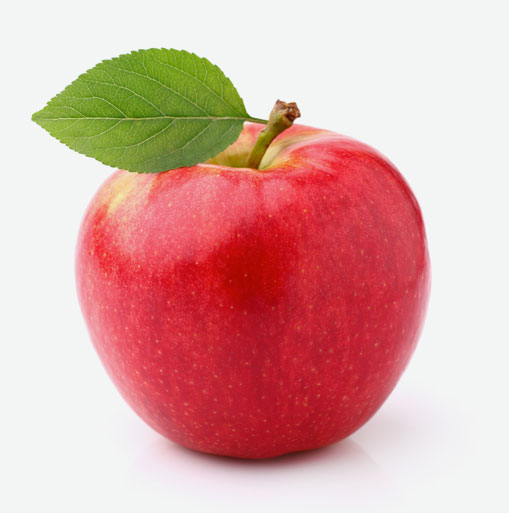apple: (34, 44, 432, 462)
